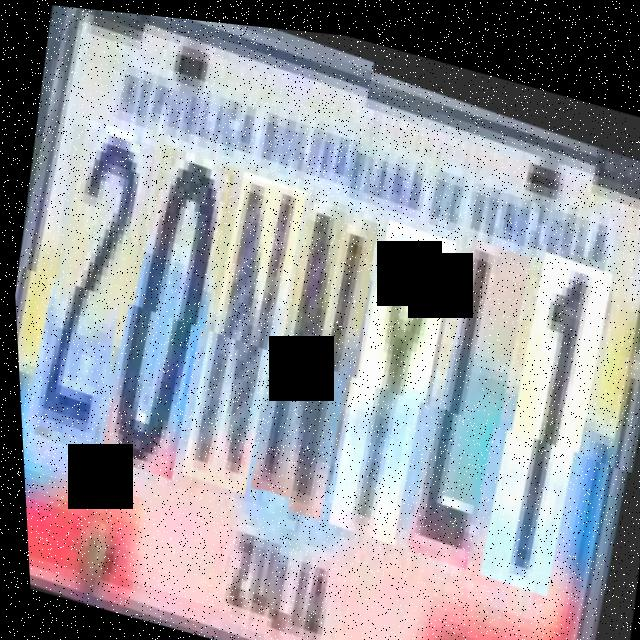1: (470, 227, 627, 589)
2: (17, 117, 167, 461)
L: (399, 214, 544, 565)
N: (241, 185, 393, 520), (172, 164, 319, 506)
O: (90, 139, 248, 494)
Y: (321, 200, 471, 543)
